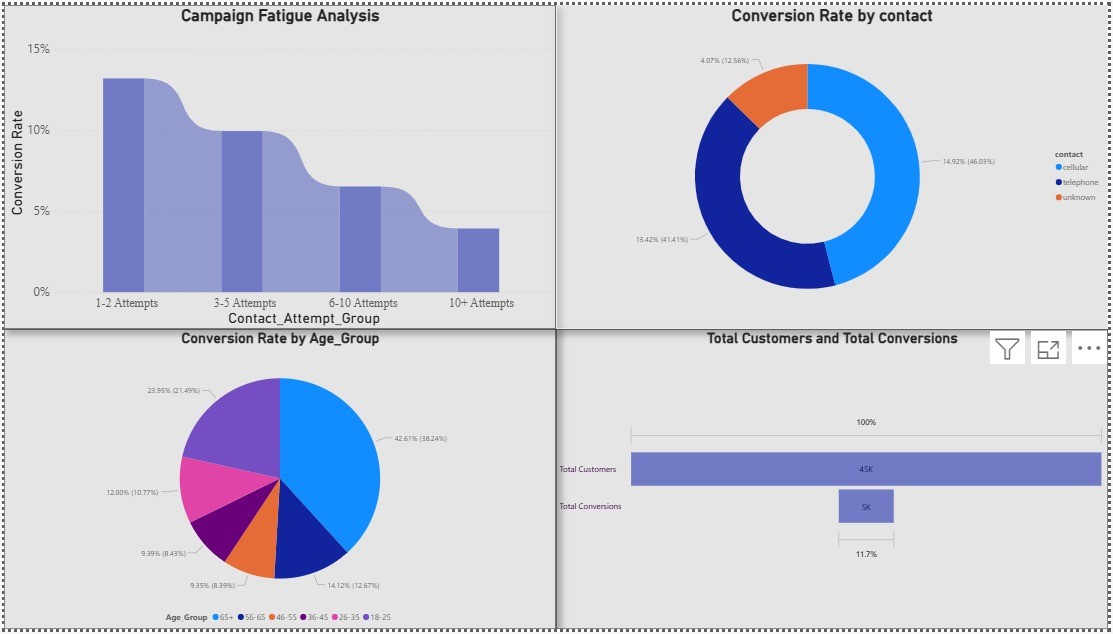

The page's visual inventory and layout, read from the dashboard file:
{"tool":"powerbi","page":{"name":"Page 2","canvas":[1840,1040],"ordinal":1},"visuals":[{"type":"funnel","fields":{"Y":["Bank_Data.Total Customers","Bank_Data.Total Conversions"]},"box":[920,540,920,500],"z":0},{"type":"pieChart","fields":{"Category":["Bank_Data.Age_Group"],"Y":["Bank_Data.Conversion Rate"]},"box":[0,540,920,500],"z":1000},{"type":"ribbonChart","title":"Campaign Fatigue Analysis","fields":{"Category":["Bank_Data.Contact_Attempt_Group"],"Y":["Bank_Data.Conversion Rate"]},"box":[0,0,920,540],"z":2000},{"type":"donutChart","fields":{"Category":["Bank_Data.contact"],"Y":["Bank_Data.Conversion Rate"]},"box":[920,0,920,540],"z":3000}]}

Visuals, with their boxes in screenshot pixels (x1, y1, x2, y2), scaled from the page's 1840x1040 canvas onto the 1113x634 screenshot:
funnel - Bank_Data.Total Customers x Bank_Data.Total Conversions: crop(556, 329, 1112, 633)
pieChart - Bank_Data.Age_Group x Bank_Data.Conversion Rate: crop(0, 329, 556, 633)
"Campaign Fatigue Analysis" ribbonChart: crop(0, 0, 556, 329)
donutChart - Bank_Data.contact x Bank_Data.Conversion Rate: crop(556, 0, 1112, 329)
